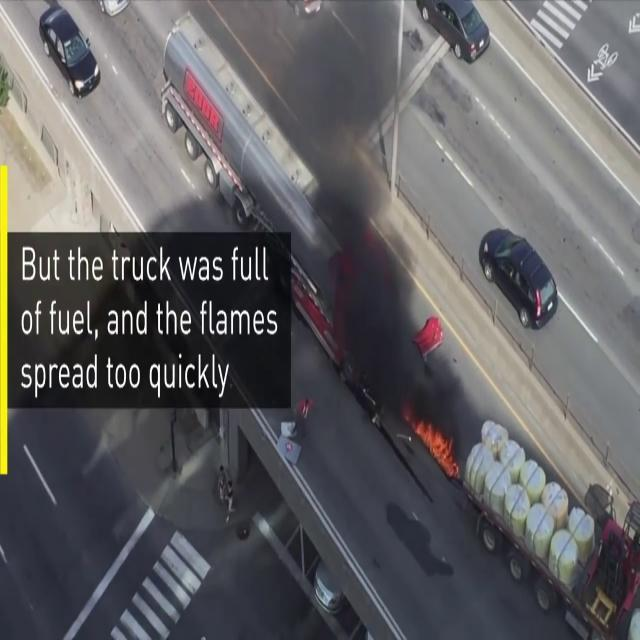Fire: (413, 413, 456, 475)
Smoke: (278, 0, 424, 407)
